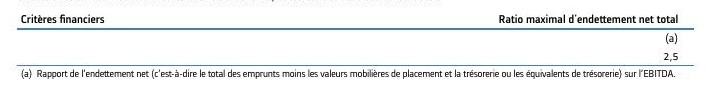table: (0, 0, 714, 92)
